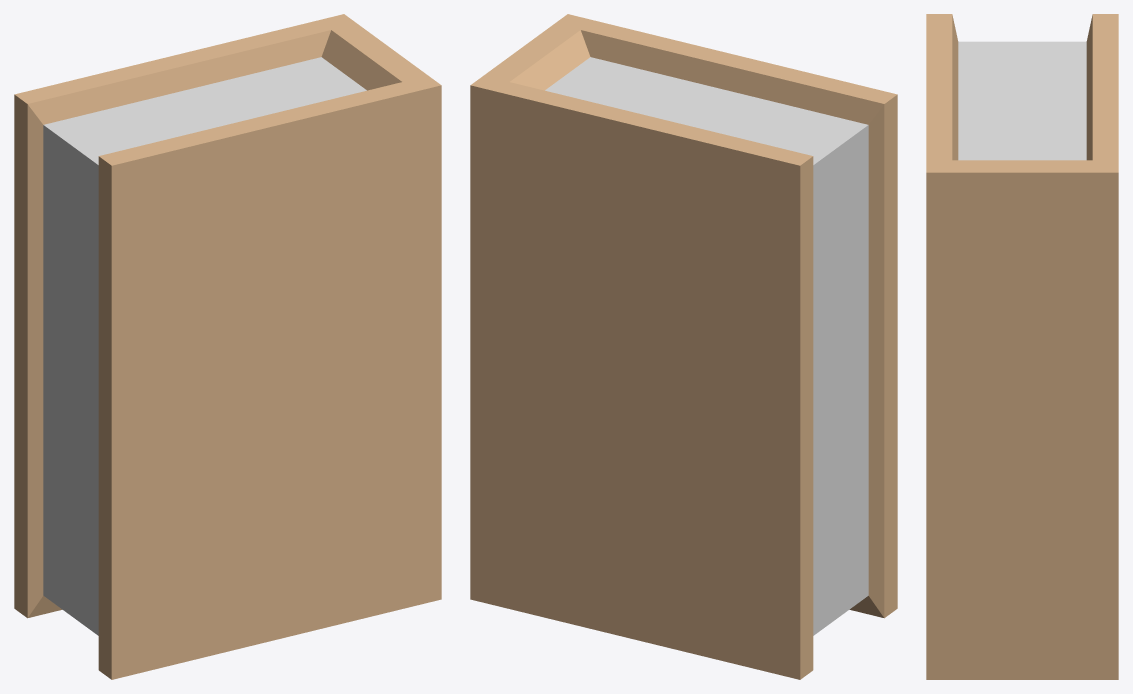
The model's file is Libros.054.fbx.
3 views of the same model, side by side, from view 1: azimuth 30°, elevation 25°; view 2: azimuth 150°, elevation 25°; view 3: azimuth 270°, elevation 25° (orthographic).
Visible parts, largest first — view 1: Libros.054; view 2: Libros.054; view 3: Libros.054.
Part boxes in pixels (x1,y1,x2,y2): Libros.054: [14, 14, 441, 679]; Libros.054: [470, 14, 897, 679]; Libros.054: [926, 14, 1118, 679].
Bounding box in the file's own units: 29.46 × 43.9 × 15.08.
